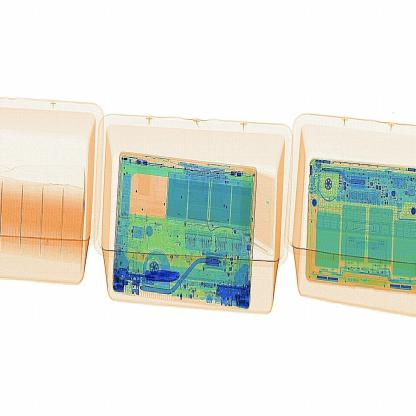knife: (143, 266, 183, 288)
